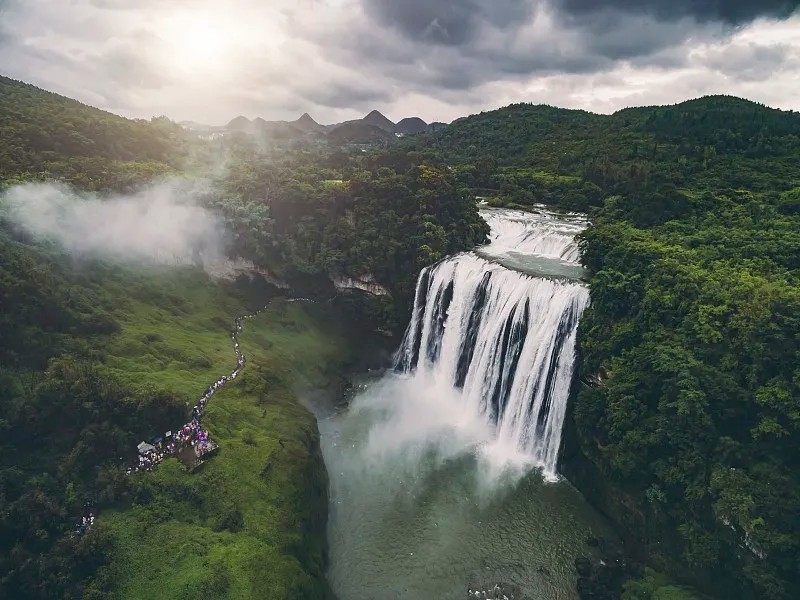Huangguoshu: (398, 216, 592, 482)
